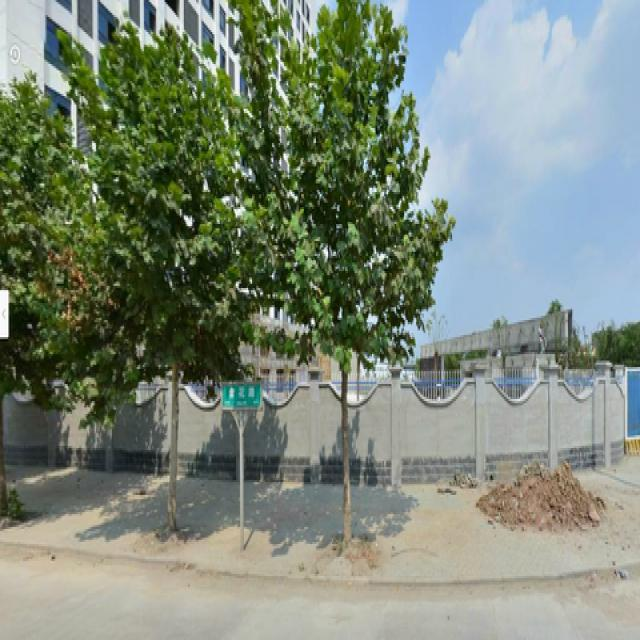meta: (280, 2, 436, 546), (80, 24, 245, 531)
